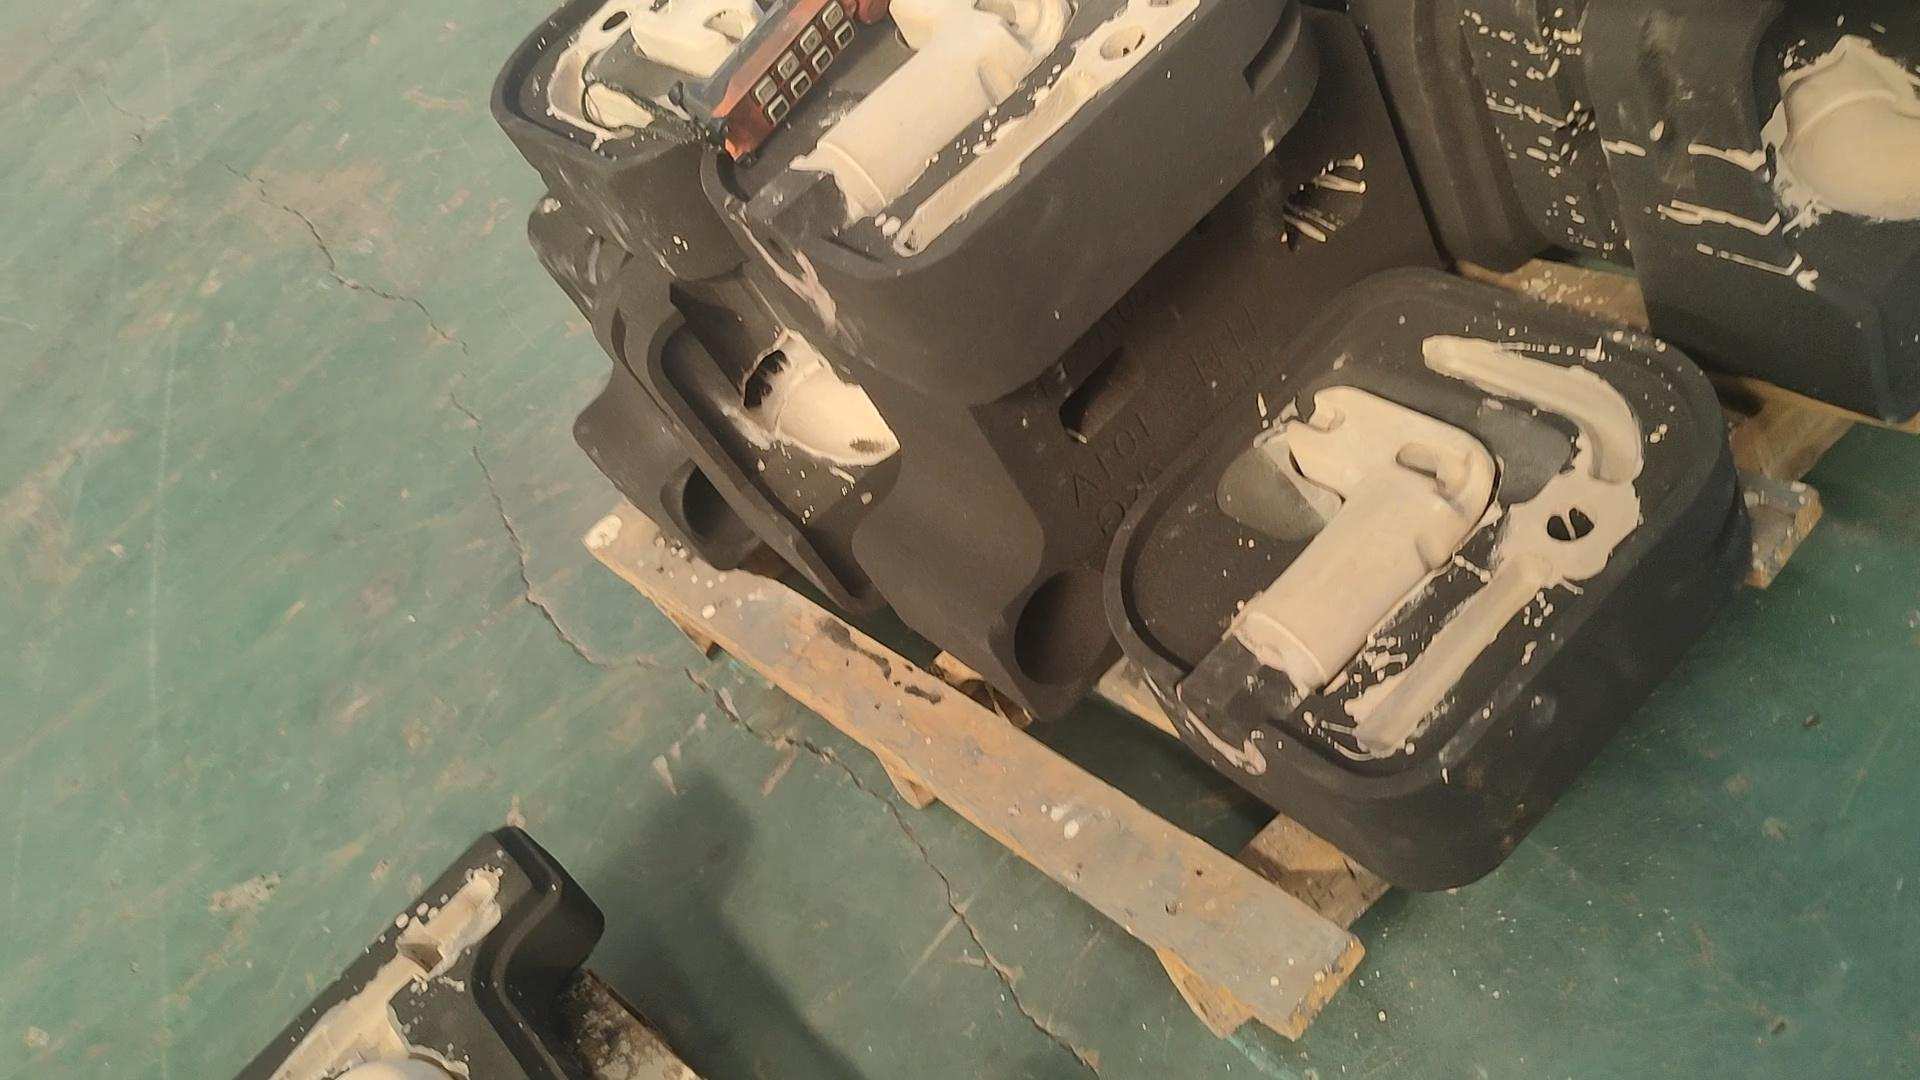pouring hole: (1015, 570, 1116, 686), (683, 447, 773, 549)
